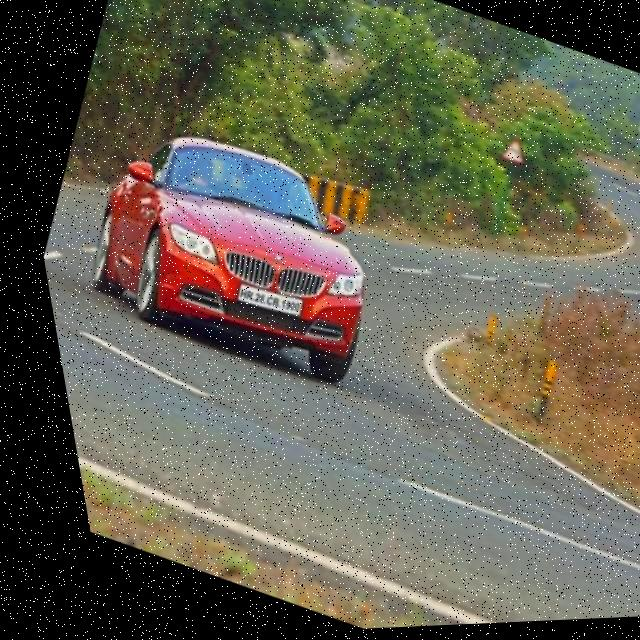license_plate: (218, 271, 312, 334)
